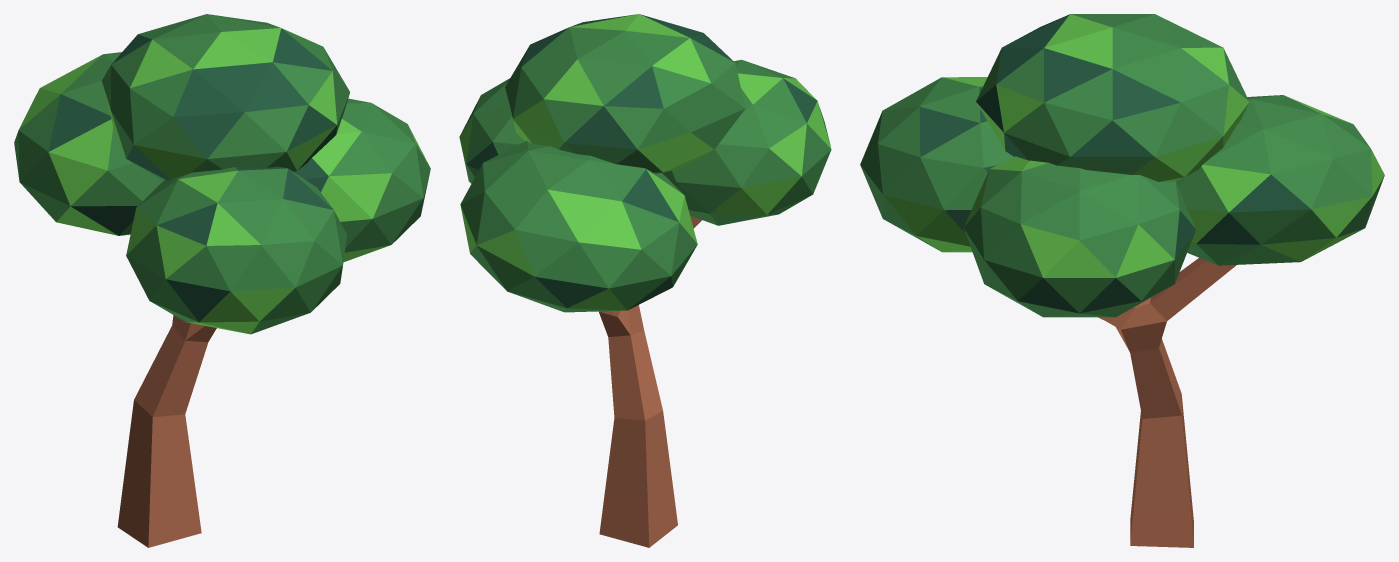
The model's file is Tree_03_1.fbx.
3 views of the same model, side by side, from view 1: azimuth 30°, elevation 25°; view 2: azimuth 150°, elevation 25°; view 3: azimuth 270°, elevation 25° (orthographic). The views are drawn at different scales.
Visible parts, largest first — view 1: Tree_03 top, Tree_03 trunk; view 2: Tree_03 top, Tree_03 trunk; view 3: Tree_03 top, Tree_03 trunk.
Part boxes in pixels (x1=…): Tree_03 top: x1=14, y1=14, x2=430, y2=504; Tree_03 trunk: x1=117, y1=485, x2=201, y2=547; Tree_03 top: x1=459, y1=14, x2=831, y2=505; Tree_03 trunk: x1=599, y1=487, x2=677, y2=547; Tree_03 top: x1=860, y1=14, x2=1384, y2=503; Tree_03 trunk: x1=1130, y1=480, x2=1193, y2=547.
Size of the model in its own units: 320 by 489 by 441.
